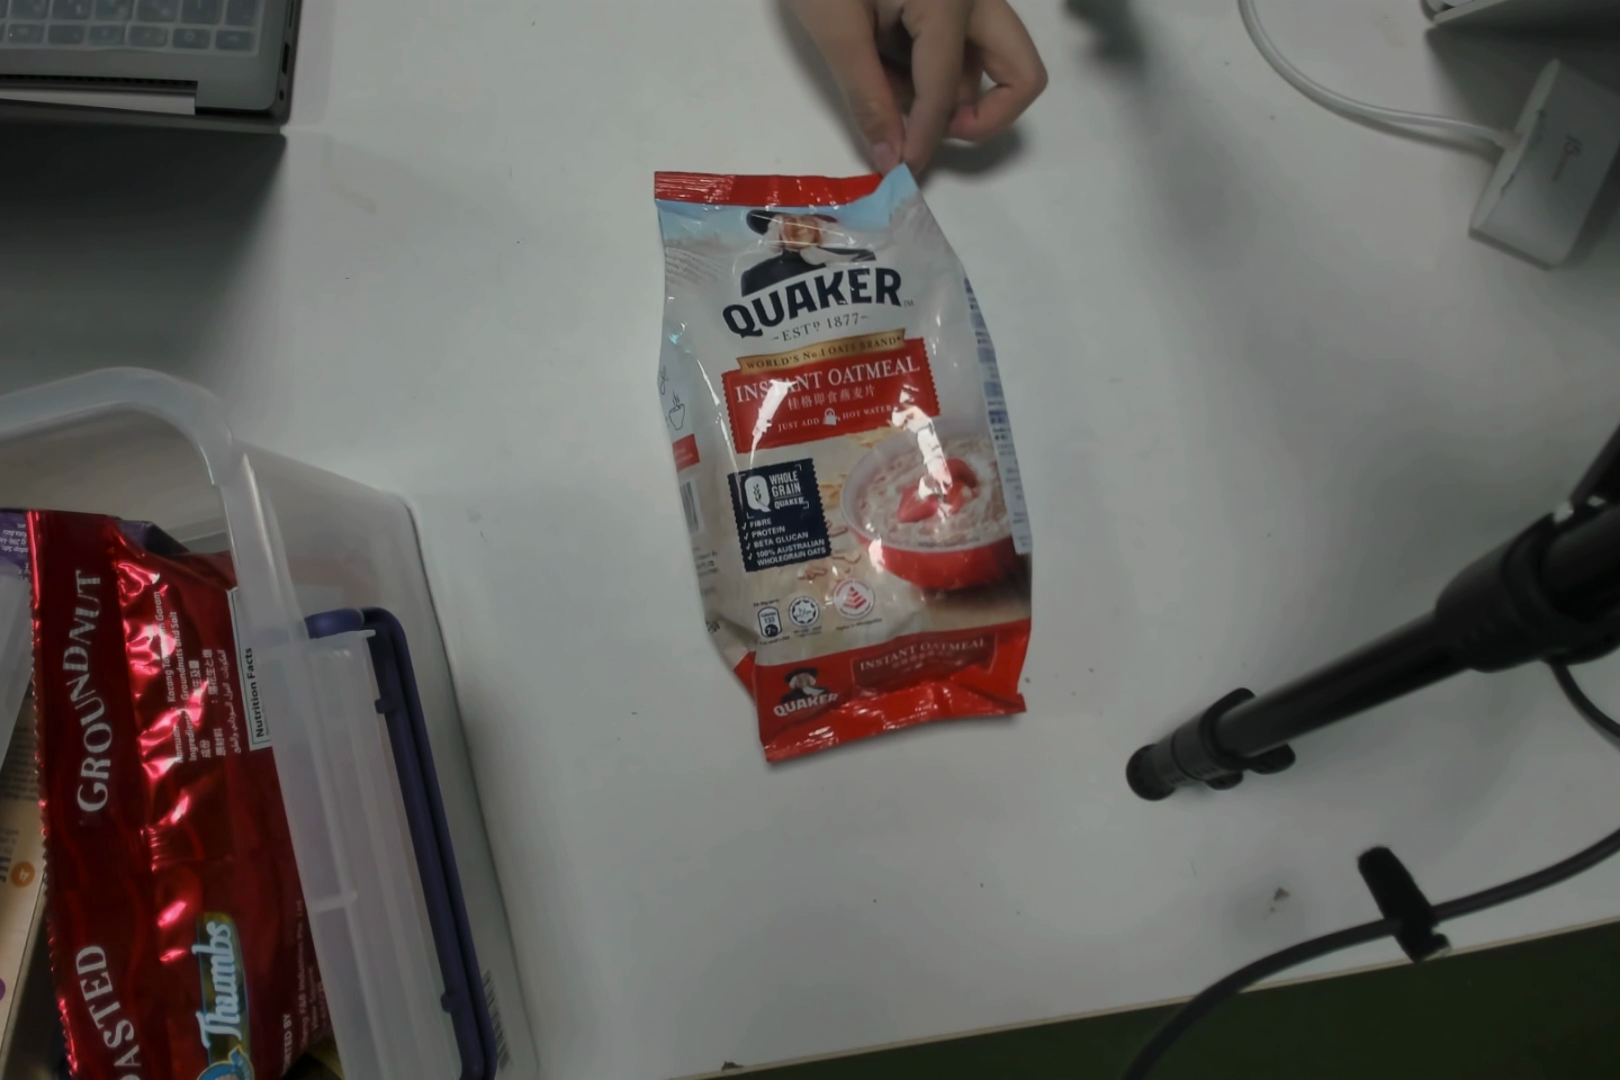RolledOatsInstantOatmeal_400-499g_Halal_Healthy: (688, 181, 1063, 755)
